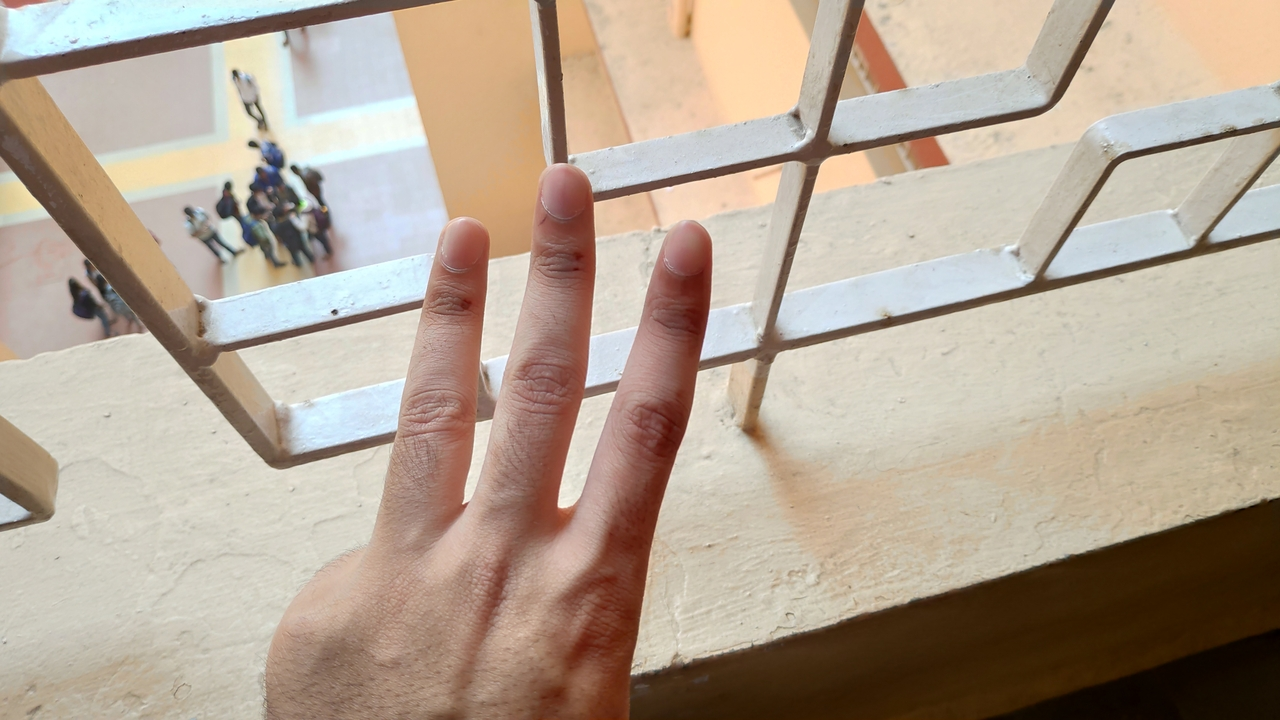fingertip: (652, 214, 716, 278), (530, 156, 594, 220), (428, 210, 488, 268)
